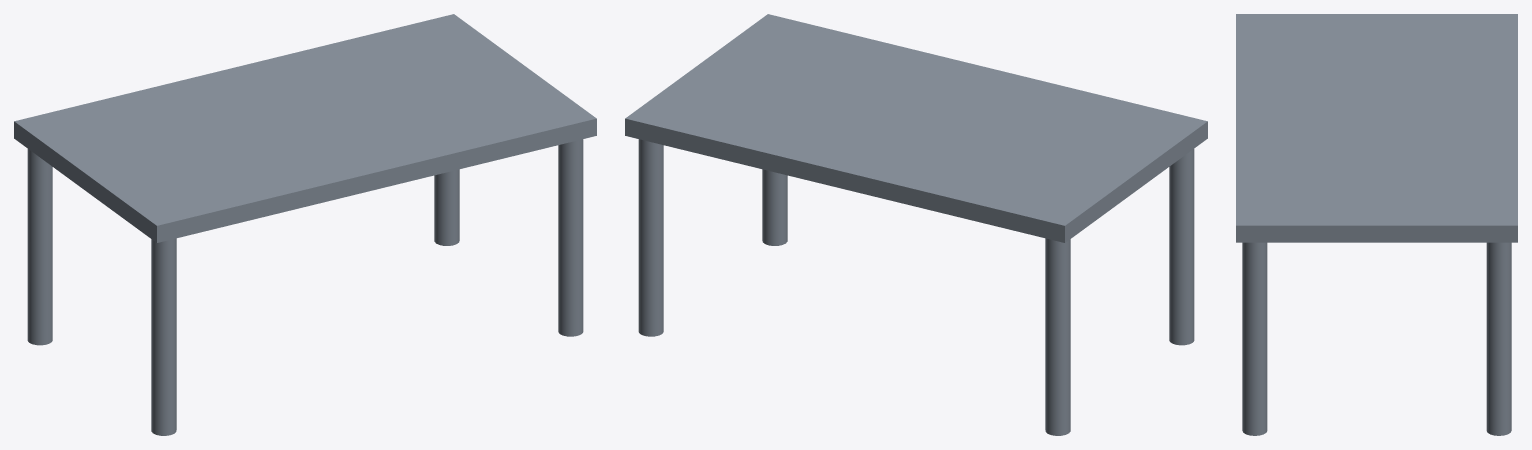
Rendered from dining-table.glb.
The picture shows the model from 3 angles, left to right: view 1: azimuth 30°, elevation 25°; view 2: azimuth 150°, elevation 25°; view 3: azimuth 270°, elevation 25°; orthographic projection.
Parts seen in each view (by area): view 1: dining-table; view 2: dining-table; view 3: dining-table.
Boxes of the visible parts, x1,y1,x2,y2 form: dining-table: (14,14,596,435); dining-table: (625,14,1207,435); dining-table: (1236,14,1517,435).
Size of the model in its own units: 1.6 by 0.75 by 0.9.
